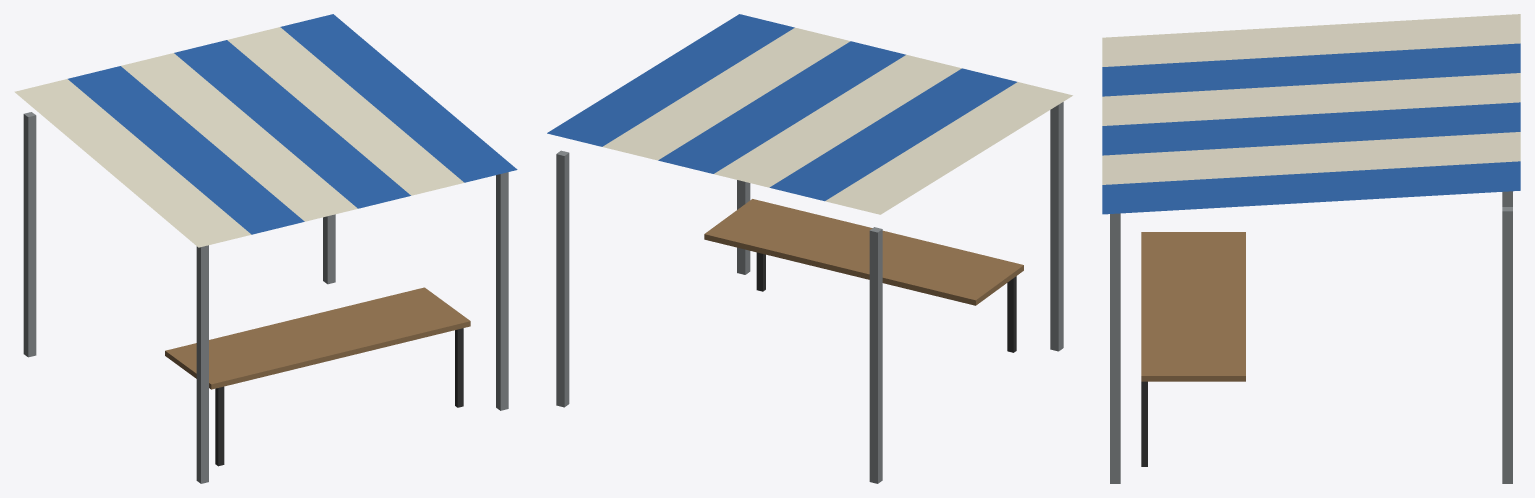
Rendered from lona_barraca.glb.
The picture shows the model from 3 angles, left to right: view 1: azimuth 30°, elevation 25°; view 2: azimuth 150°, elevation 25°; view 3: azimuth 270°, elevation 25°; orthographic projection. The views are drawn at different scales.
Visible parts, largest first — view 1: lona_barraca; view 2: lona_barraca; view 3: lona_barraca.
Part boxes in pixels (x1=…): lona_barraca: x1=14, y1=14, x2=517, y2=483; lona_barraca: x1=547, y1=14, x2=1072, y2=483; lona_barraca: x1=1102, y1=14, x2=1520, y2=483.
Size of the model in its own units: 3.2 by 2.5 by 3.2.
